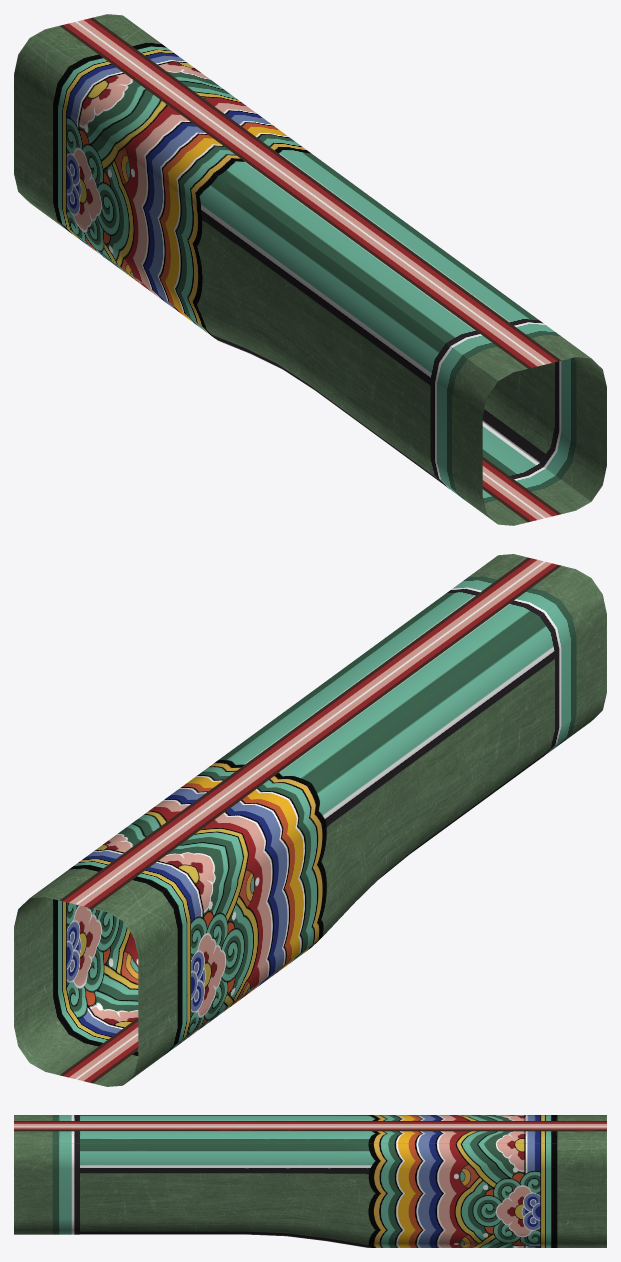
The model's file is SM_Beam08B.fbx.
The picture shows the model from 3 angles, top to bottom: view 1: azimuth 30°, elevation 25°; view 2: azimuth 150°, elevation 25°; view 3: azimuth 270°, elevation 25°; orthographic projection. The views are drawn at different scales.
Parts seen in each view (by area): view 1: SM_Beam08B; view 2: SM_Beam08B; view 3: SM_Beam08B.
Part boxes in pixels (left/top/right/bottom): SM_Beam08B: left=14, top=14, right=606, bottom=525; SM_Beam08B: left=14, top=554, right=606, bottom=1086; SM_Beam08B: left=14, top=1115, right=606, bottom=1247.
Bounding box in the file's own units: 26.29 × 172 × 35.3.
